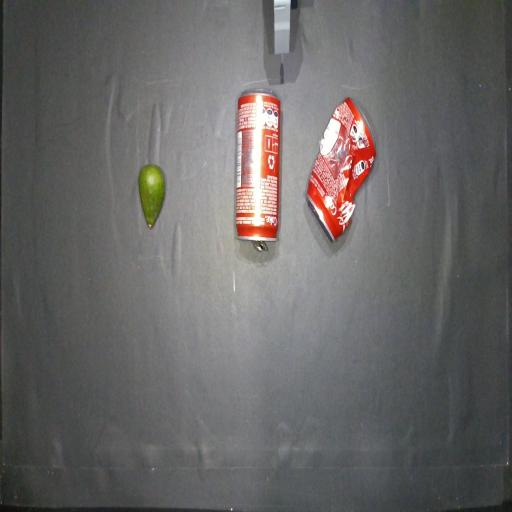higo: (139, 165, 165, 227)
lata: (235, 89, 282, 249)
lata_defectuoso: (307, 98, 376, 241)
